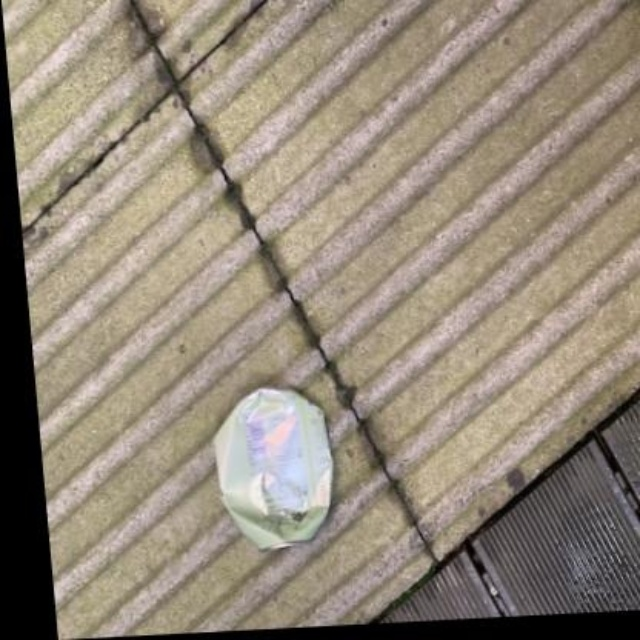trash: (214, 388, 331, 548)
